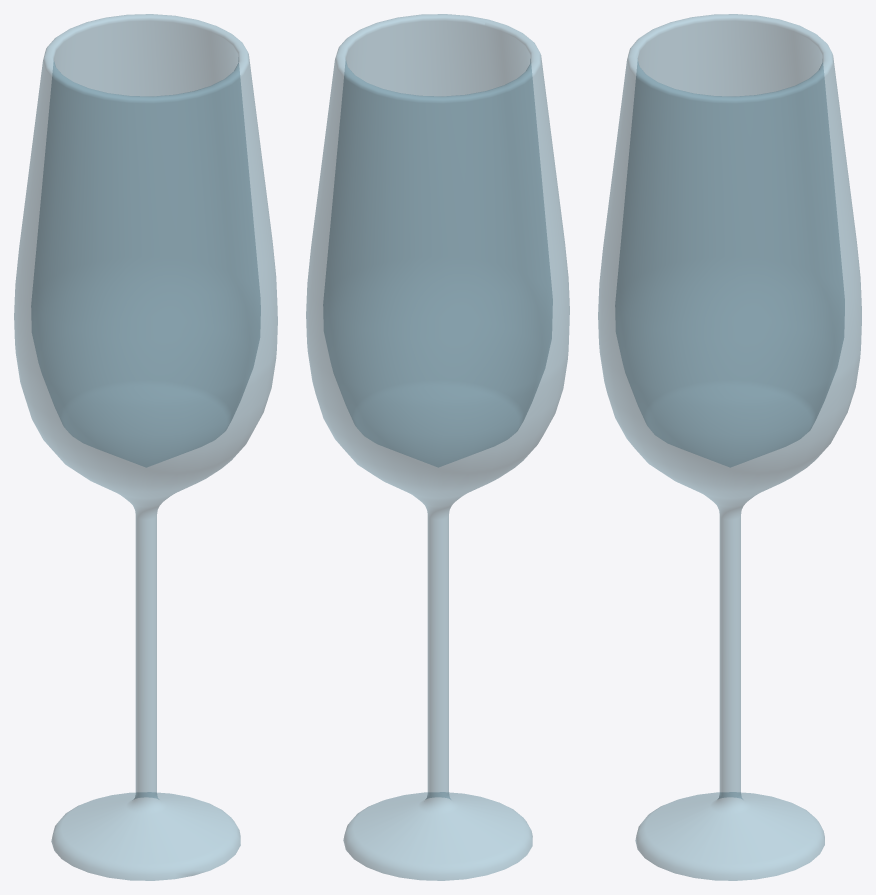
The model's file is Wine Glasses.glb.
3 renders of one model, left to right at view 1: azimuth 30°, elevation 25°; view 2: azimuth 150°, elevation 25°; view 3: azimuth 270°, elevation 25°, orthographic.
Visible parts, largest first — view 1: ChampagneFlute; view 2: ChampagneFlute; view 3: ChampagneFlute.
Boxes of the visible parts, box(x1,y1,x2,y2) form: ChampagneFlute: box(14, 14, 277, 880); ChampagneFlute: box(306, 14, 569, 880); ChampagneFlute: box(598, 14, 861, 880).
Bounding box in the file's own units: 0.1252 × 0.41 × 0.125.
